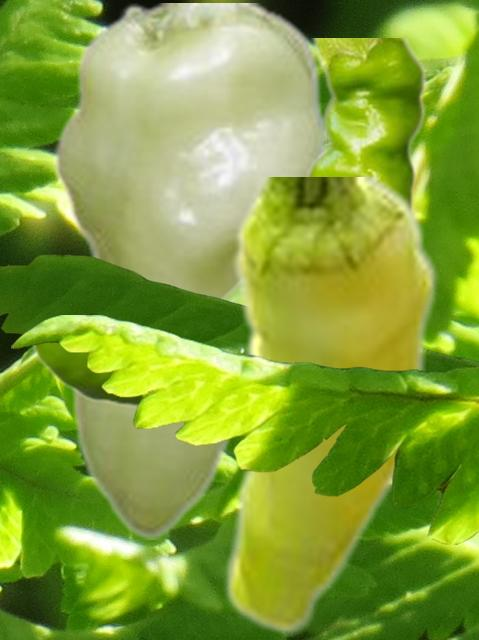green_chili: (47, 3, 325, 538), (29, 38, 427, 411), (222, 177, 438, 635)
